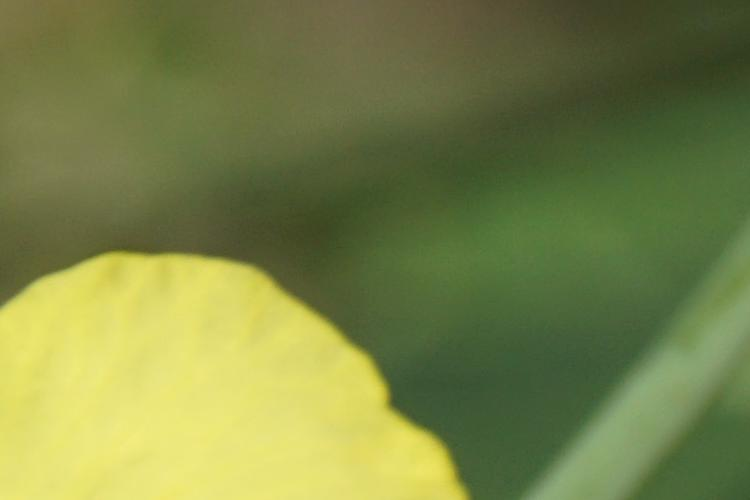yellow: (19, 236, 499, 497)
